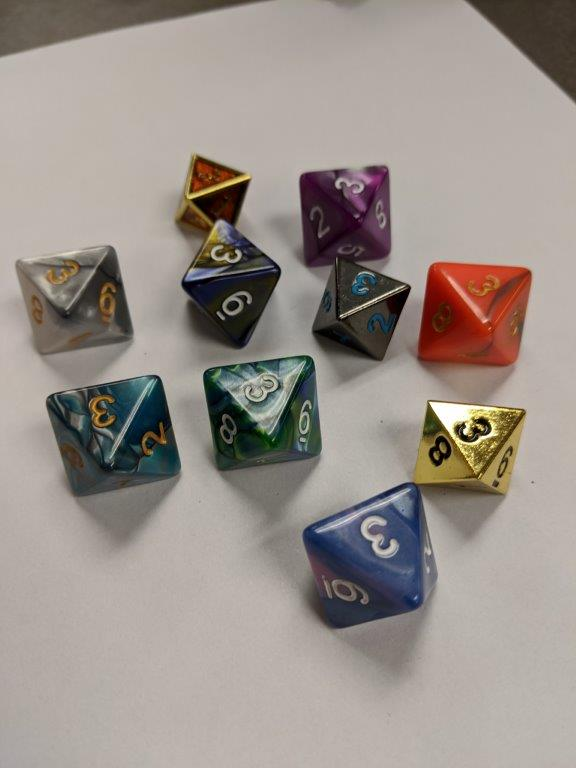d8-3: (302, 483, 440, 631), (47, 371, 183, 500), (180, 217, 282, 350), (203, 356, 320, 469), (15, 245, 134, 354), (406, 399, 526, 497), (421, 263, 532, 367), (309, 257, 410, 360), (301, 167, 392, 265), (171, 154, 255, 235)
